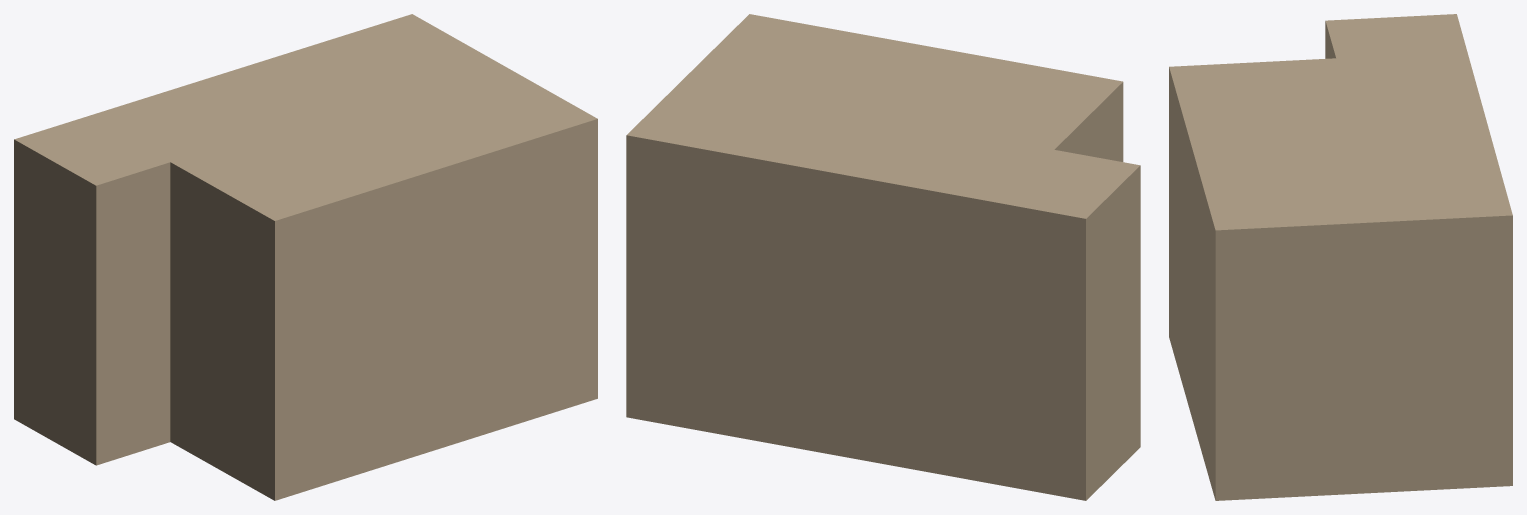
The model's file is bld_107639171.dae.
3 views of the same model, side by side, from view 1: azimuth 30°, elevation 25°; view 2: azimuth 150°, elevation 25°; view 3: azimuth 270°, elevation 25° (orthographic). The views are drawn at different scales.
Parts seen in each view (by area): view 1: bld_107639171; view 2: bld_107639171; view 3: bld_107639171.
Boxes of the visible parts, x1,y1,x2,y2 form: bld_107639171: (14,14,597,500); bld_107639171: (626,14,1140,500); bld_107639171: (1169,14,1512,500).
Size of the model in its own units: 13.73 by 9.21 by 8.
